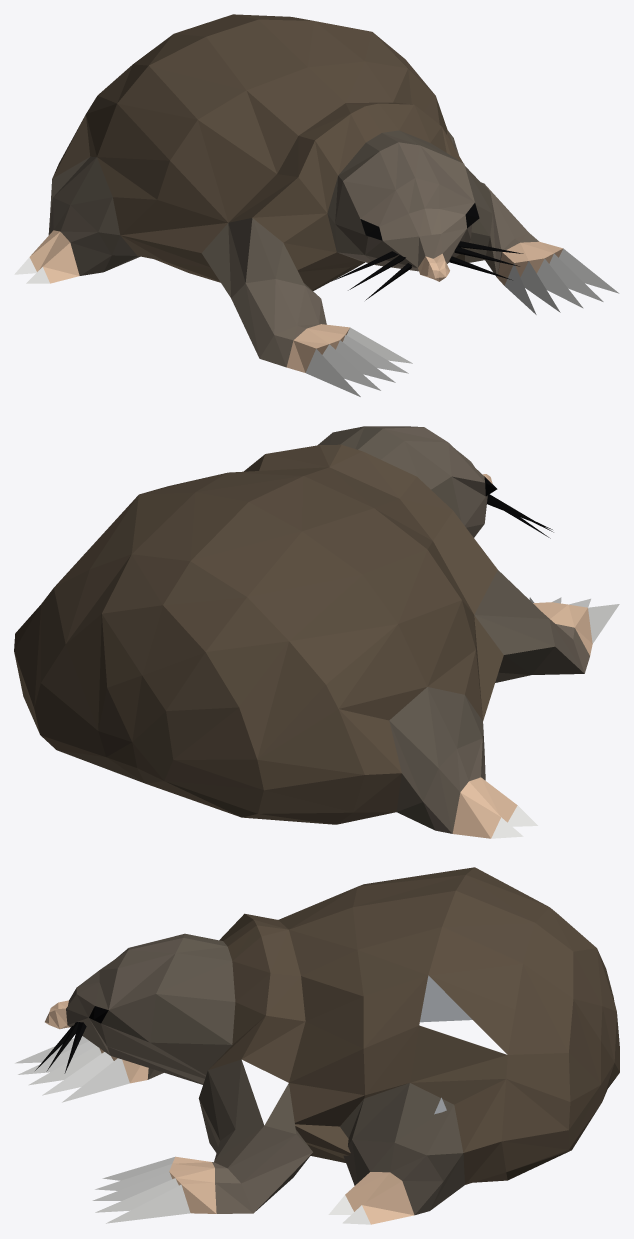
The model's file is giant_mole.gltf.
3 views of the same model, one above another, from view 1: azimuth 30°, elevation 25°; view 2: azimuth 150°, elevation 25°; view 3: azimuth 270°, elevation 25° (orthographic). The views are drawn at different scales.
Size of the model in its own units: 362 by 163 by 397.
Materials: 2 (2 with a texture image).
